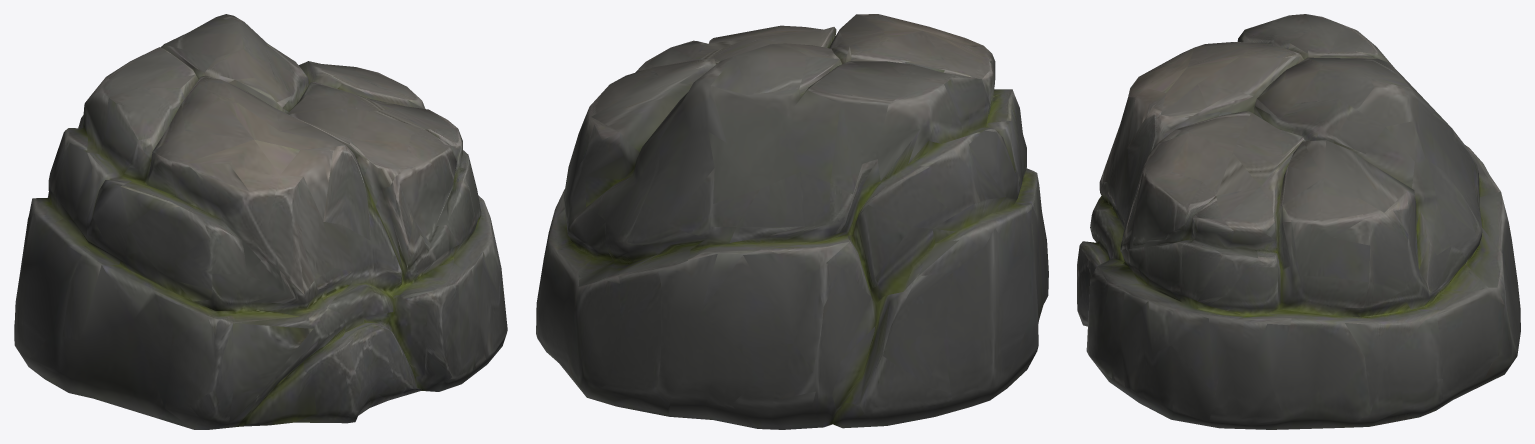
Rendered from boulder_xl.glb.
3 views of the same model, side by side, from view 1: azimuth 30°, elevation 25°; view 2: azimuth 150°, elevation 25°; view 3: azimuth 270°, elevation 25° (orthographic). The views are drawn at different scales.
Visible parts, largest first — view 1: BOULDER_XL; view 2: BOULDER_XL; view 3: BOULDER_XL.
Boxes of the visible parts, x1,y1,x2,y2 form: BOULDER_XL: (14,14,507,429); BOULDER_XL: (536,14,1048,429); BOULDER_XL: (1077,14,1520,429).
Size of the model in its own units: 1.93 by 1.25 by 1.87.
Materials: 1 (1 with a texture image).
